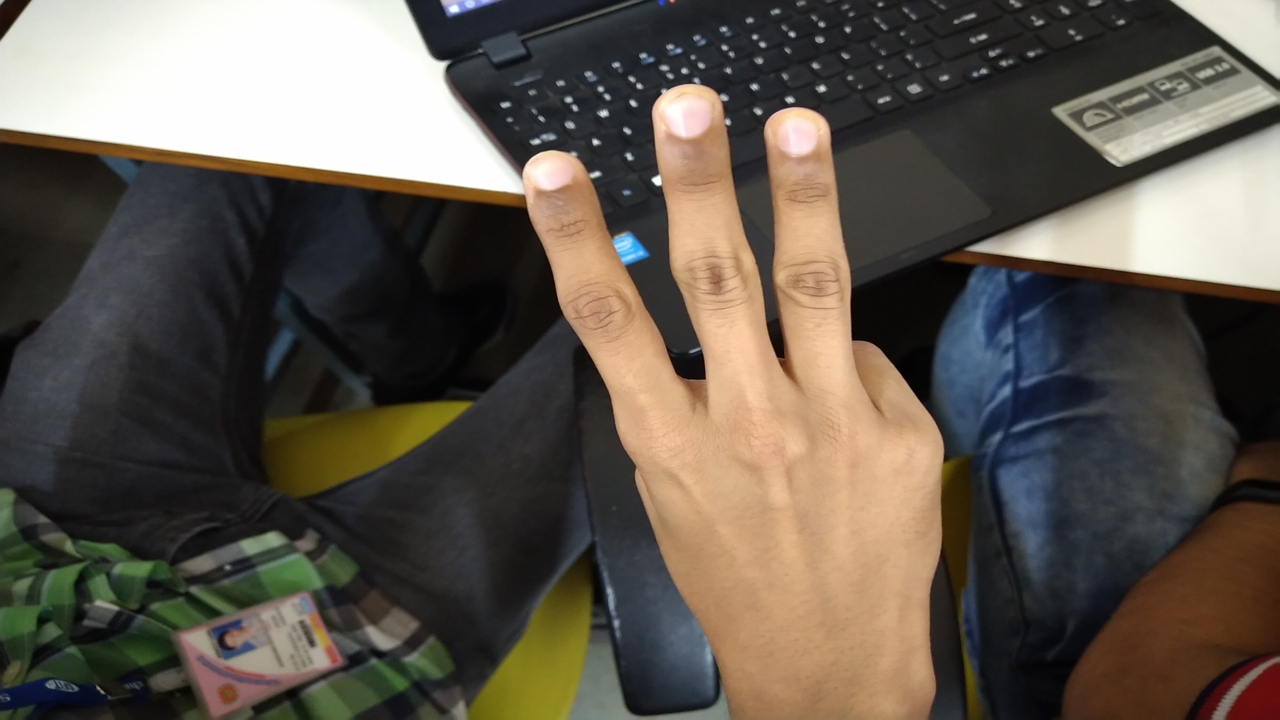fingertip: (518, 144, 598, 216), (648, 86, 720, 150), (766, 110, 832, 170)
